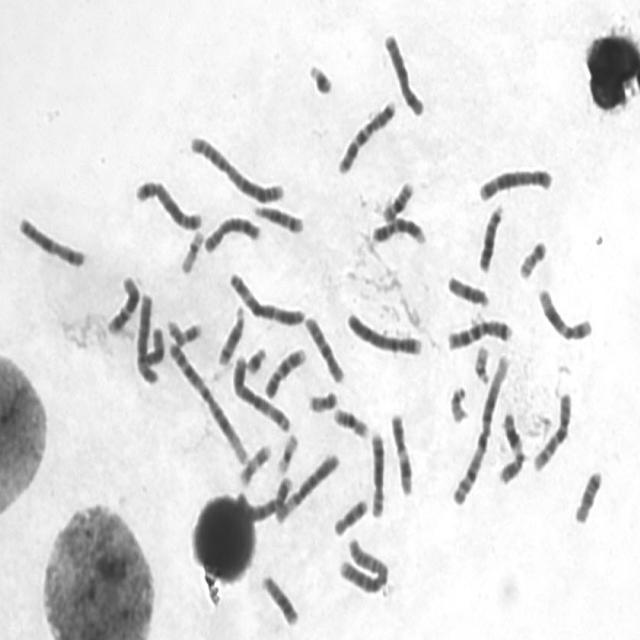A1: (164, 337, 250, 466), (449, 349, 512, 507)
A2: (186, 130, 286, 205), (335, 534, 390, 596)
A3: (229, 350, 292, 434), (225, 268, 306, 328)
B4: (342, 306, 424, 358), (228, 472, 294, 526)
B5: (132, 175, 204, 232), (476, 163, 554, 203)
C10: (530, 386, 574, 474), (302, 311, 346, 385)
C11: (494, 408, 526, 487), (387, 408, 415, 497)
C12: (534, 283, 594, 342), (104, 271, 142, 337)
C6: (270, 448, 341, 525), (132, 288, 159, 386)
C7: (333, 95, 398, 176), (444, 314, 514, 352)
C8: (200, 212, 263, 256), (366, 426, 386, 520)
C9: (261, 344, 308, 401), (368, 214, 428, 247)
D13: (257, 570, 300, 628), (476, 200, 505, 274)
D14: (214, 300, 246, 368), (250, 201, 305, 235)
D15: (444, 271, 491, 309), (136, 326, 165, 368)
E16: (379, 176, 415, 224), (330, 404, 370, 440)
E17: (235, 439, 273, 488), (163, 314, 203, 348)
E18: (571, 464, 604, 526), (330, 493, 370, 538)
F19: (178, 224, 205, 276), (273, 429, 300, 476)
F20: (515, 235, 549, 282), (304, 386, 338, 414)
G21: (304, 57, 335, 97), (243, 342, 268, 377)
G22: (446, 381, 469, 425), (470, 340, 492, 385)
X: (13, 210, 88, 270), (381, 28, 426, 118)
